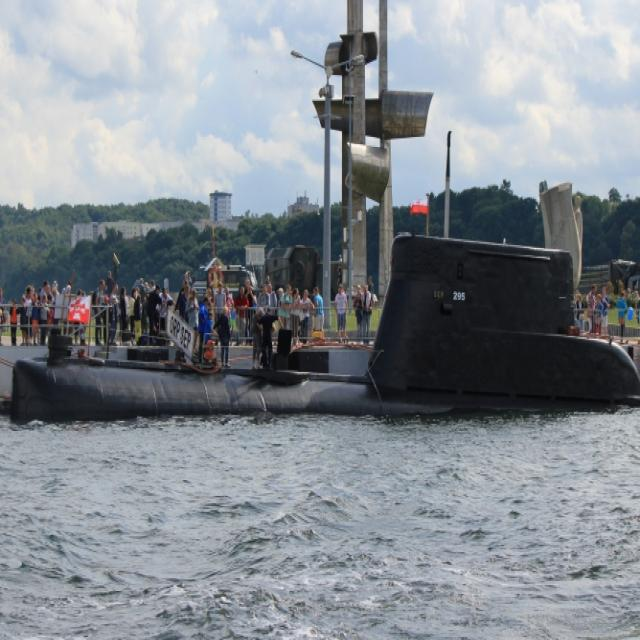submarine: (10, 234, 640, 421)
